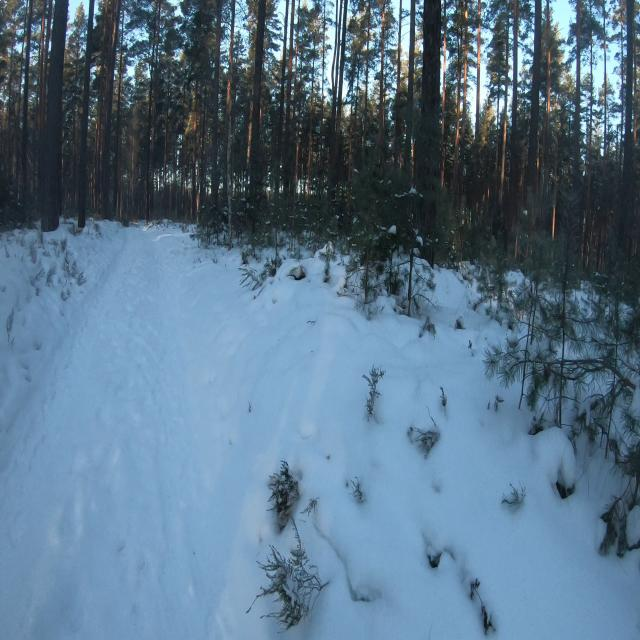bush: (484, 231, 640, 484), (256, 521, 324, 629), (268, 461, 299, 530), (478, 247, 507, 309), (362, 240, 377, 304)
trees: (37, 0, 68, 232), (96, 0, 122, 213), (418, 0, 441, 226), (618, 0, 634, 255), (77, 0, 94, 228), (248, 0, 266, 209), (330, 0, 348, 196), (294, 1, 312, 194), (525, 0, 542, 191), (274, 0, 289, 194), (20, 0, 33, 202), (212, 0, 224, 208), (329, 0, 342, 191), (500, 10, 510, 247), (283, 0, 295, 195), (226, 0, 235, 250), (114, 0, 124, 205), (405, 0, 416, 183), (509, 0, 518, 221), (572, 0, 582, 191), (392, 0, 403, 168), (147, 0, 160, 138), (348, 17, 357, 195), (34, 0, 46, 132), (377, 0, 386, 169), (543, 0, 551, 171), (474, 0, 482, 170), (460, 0, 468, 168), (198, 87, 208, 212), (16, 17, 26, 131), (453, 56, 461, 197), (441, 0, 447, 185), (306, 61, 314, 199), (602, 0, 608, 168), (320, 0, 326, 164), (191, 79, 198, 217), (364, 0, 371, 137), (589, 25, 593, 153), (146, 145, 152, 222), (163, 102, 168, 188), (8, 43, 13, 112), (130, 135, 137, 180), (543, 172, 550, 195), (354, 85, 359, 117), (15, 138, 19, 170), (167, 70, 170, 96), (589, 4, 592, 21), (130, 180, 133, 195), (458, 33, 460, 54)
